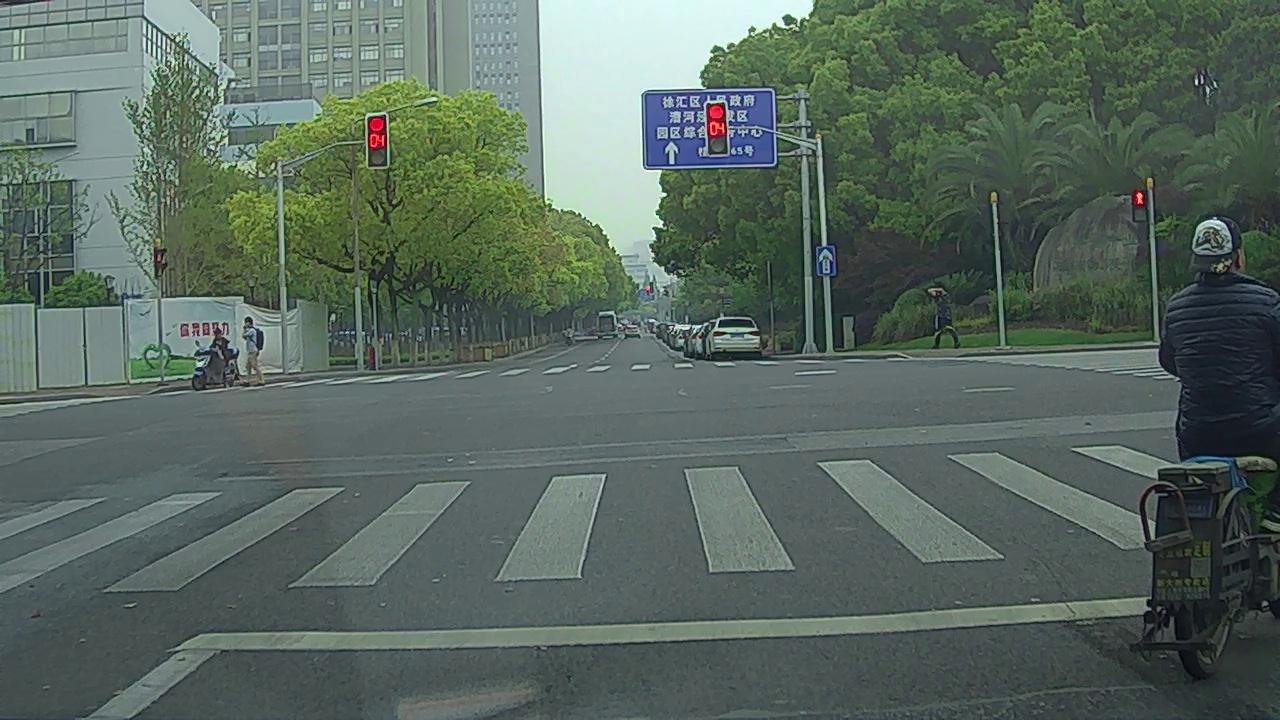traffic_light: (368, 114, 388, 167), (707, 104, 727, 153)
